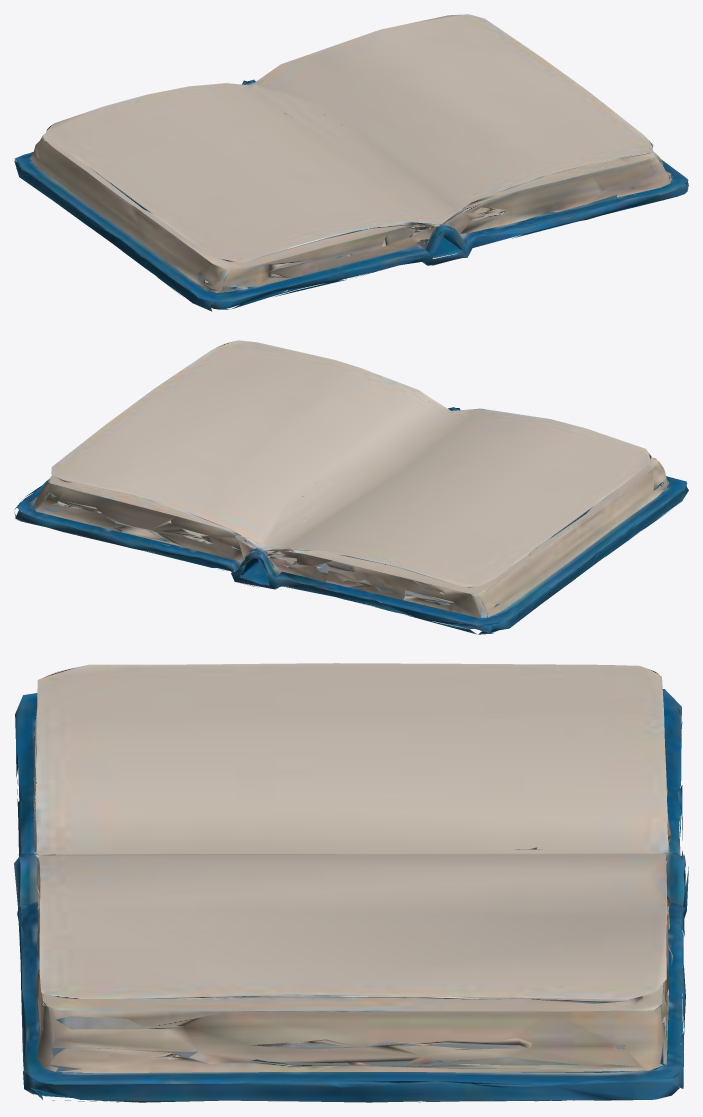
Rendered from kinder_buch.glb.
3 renders of one model, top to bottom at view 1: azimuth 30°, elevation 25°; view 2: azimuth 150°, elevation 25°; view 3: azimuth 270°, elevation 25°, orthographic. The views are drawn at different scales.
Parts seen in each view (by area): view 1: Prop; view 2: Prop; view 3: Prop.
Part boxes in pixels (x1=…): Prop: x1=14, y1=14, x2=688, y2=311; Prop: x1=14, y1=340, x2=688, y2=634; Prop: x1=14, y1=663, x2=688, y2=1102.
Bounding box in the file's own units: 8.73 × 1.08 × 6.27.
1 material, 1 textured.
